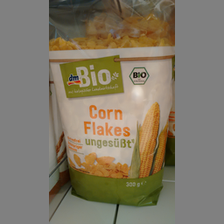cereal: (49, 24, 176, 206)
